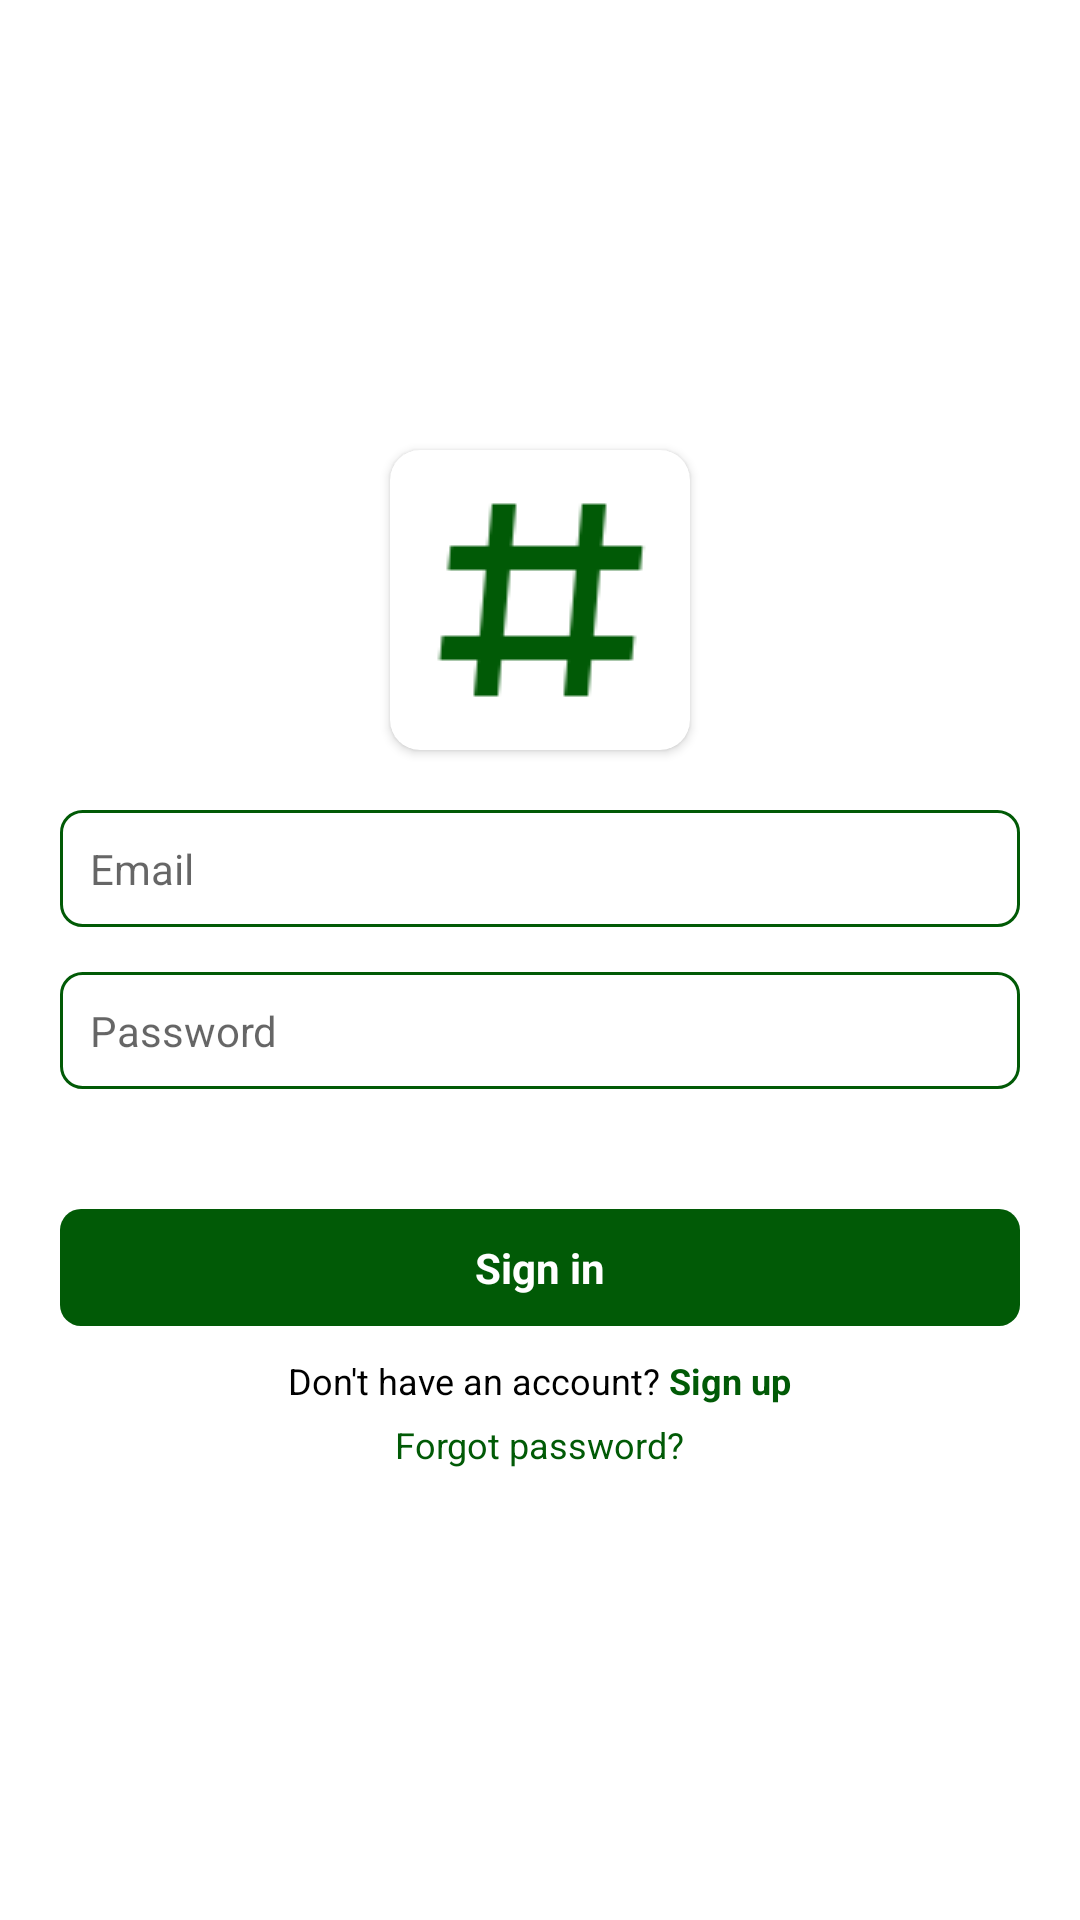

Icons on this 1080*1920 Android screen, each with its box as (x1, y1, x2, y2):
hashtag: (390, 503, 690, 750)
